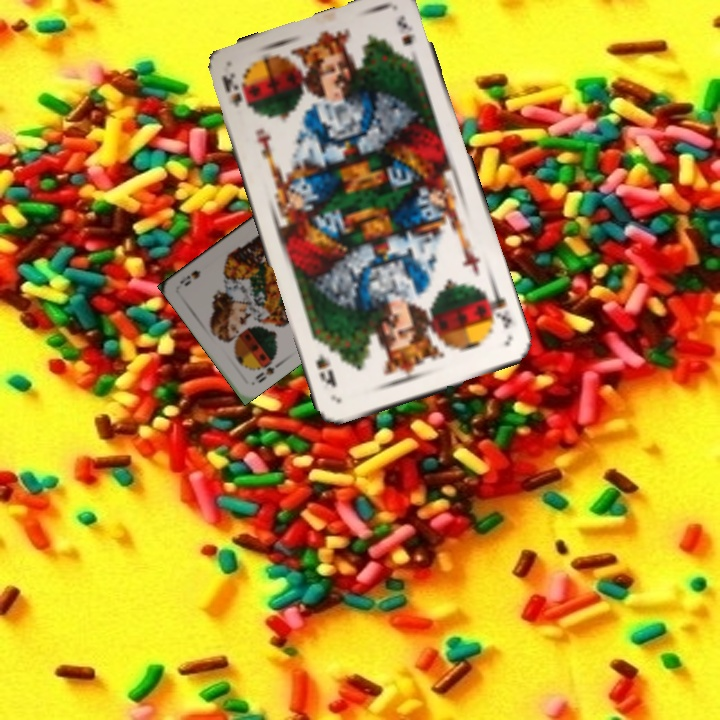SK: (480, 284, 515, 331), (218, 69, 250, 112)
SO: (251, 354, 278, 386)
